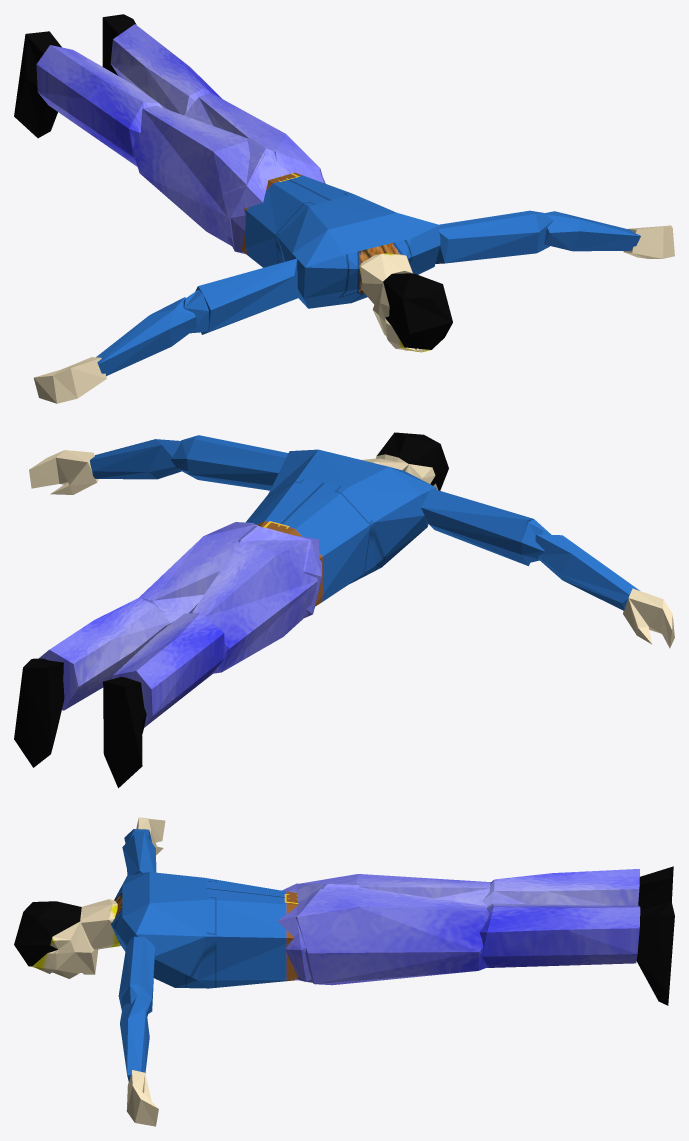
Rendered from Officer_wtf.obj.
3 views of the same model, one above another, from view 1: azimuth 30°, elevation 25°; view 2: azimuth 150°, elevation 25°; view 3: azimuth 270°, elevation 25° (orthographic). The views are drawn at different scales.
Parts seen in each view (by area): view 1: group5, group2, group1, group3, group4, group6; view 2: group5, group2, group1, group6, group3, group4; view 3: group5, group1, group2, group3, group6, group4.
Boxes of the visible parts, x1,y1,x2,y2 form: group5: [36, 24, 325, 254]; group2: [96, 194, 640, 375]; group1: [241, 172, 439, 308]; group3: [33, 225, 674, 403]; group4: [383, 273, 452, 349]; group6: [14, 14, 136, 138]; group5: [39, 522, 321, 727]; group2: [90, 435, 639, 610]; group1: [245, 478, 427, 606]; group6: [14, 658, 146, 788]; group3: [29, 450, 674, 648]; group4: [377, 432, 448, 490]; group5: [277, 869, 640, 985]; group1: [111, 877, 298, 988]; group2: [118, 829, 209, 1081]; group3: [29, 817, 165, 1126]; group6: [636, 866, 674, 1005]; group4: [14, 901, 81, 966].
Bounding box in the file's own units: 660 × 112 × 639.
